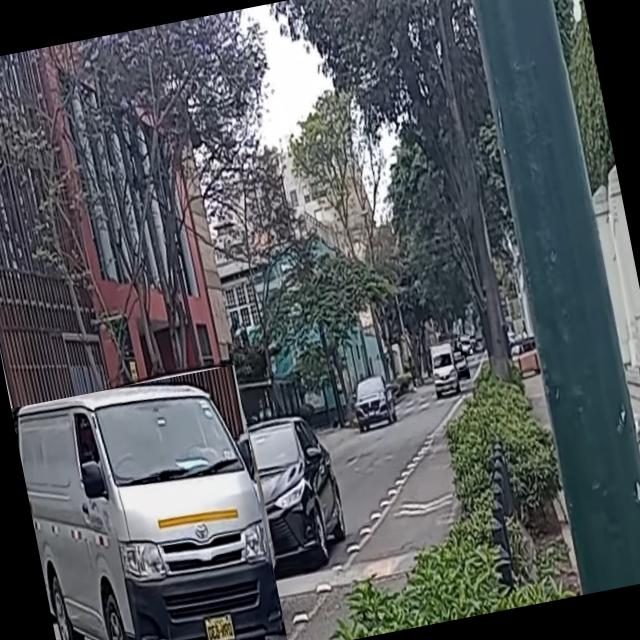car: (11, 365, 289, 640), (246, 409, 353, 560), (23, 467, 78, 640), (350, 371, 398, 430), (452, 350, 470, 380), (458, 334, 473, 356)
truck: (428, 342, 462, 398)
